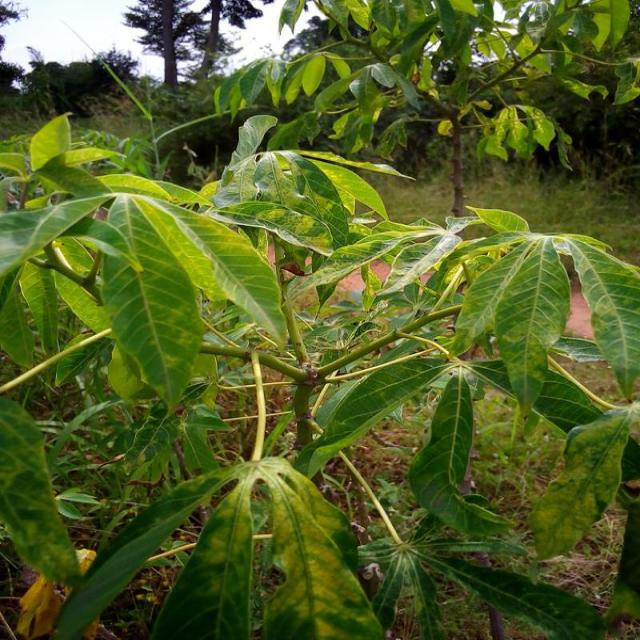cassava leaf: (2, 109, 639, 638), (100, 191, 290, 412), (527, 405, 634, 562)
